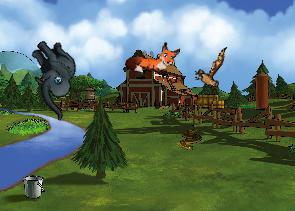eagle: (191, 47, 232, 98)
elephant: (9, 32, 98, 121)
fox: (124, 36, 181, 79)
